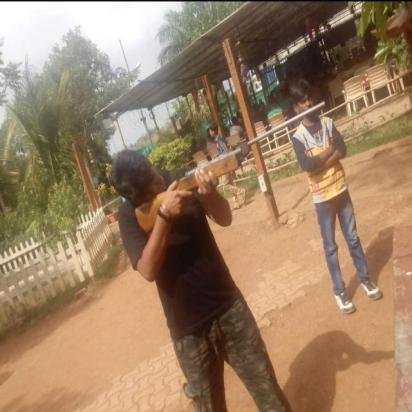Gun: (132, 98, 327, 237)
